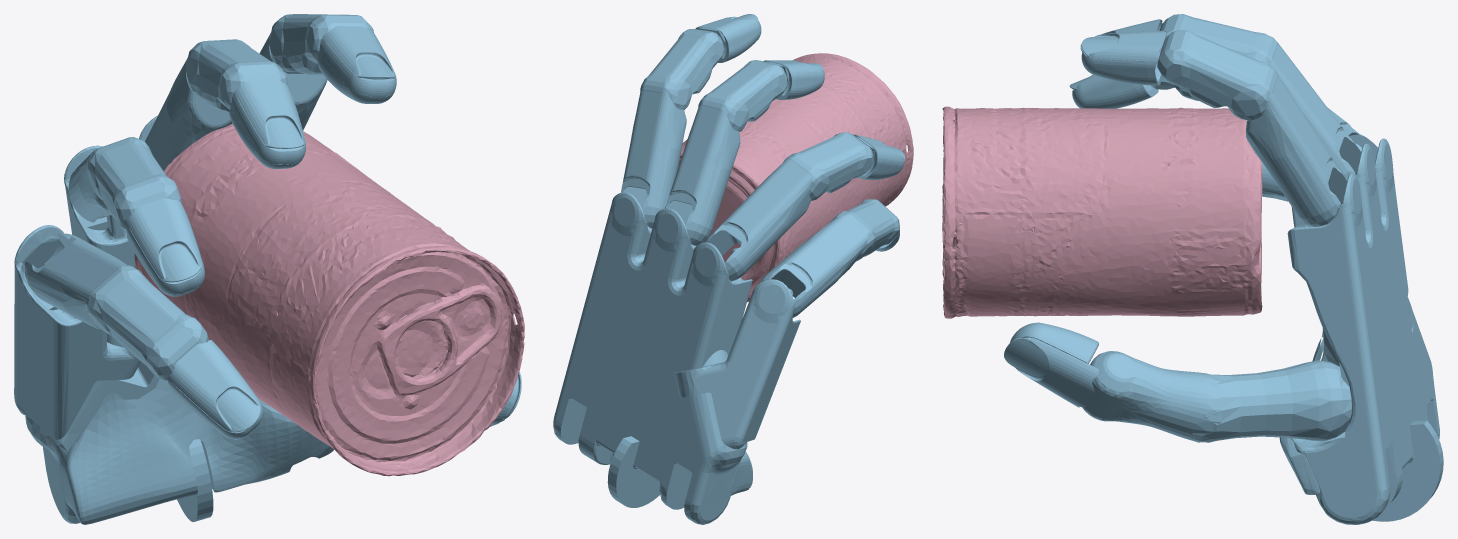
3 views of the same model, side by side, from view 1: azimuth 30°, elevation 25°; view 2: azimuth 150°, elevation 25°; view 3: azimuth 270°, elevation 25° (orthographic). The views are drawn at different scales.
Visible parts, largest first — view 1: world, tomato_soup_can.stl; view 2: world, tomato_soup_can.stl; view 3: world, tomato_soup_can.stl.
Part boxes in pixels (bbox=[...]): world: bbox=[14, 14, 521, 524]; tomato_soup_can.stl: bbox=[134, 123, 524, 476]; world: bbox=[553, 14, 904, 524]; tomato_soup_can.stl: bbox=[678, 53, 913, 302]; world: bbox=[1004, 14, 1443, 524]; tomato_soup_can.stl: bbox=[942, 106, 1262, 318].
Size of the model in its own units: 0.1146 by 0.1749 by 0.1596.
